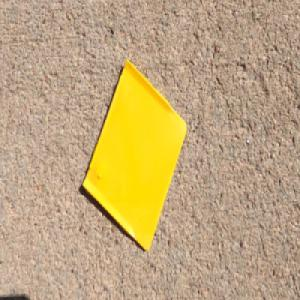PlasticPart: (81, 56, 187, 253)
